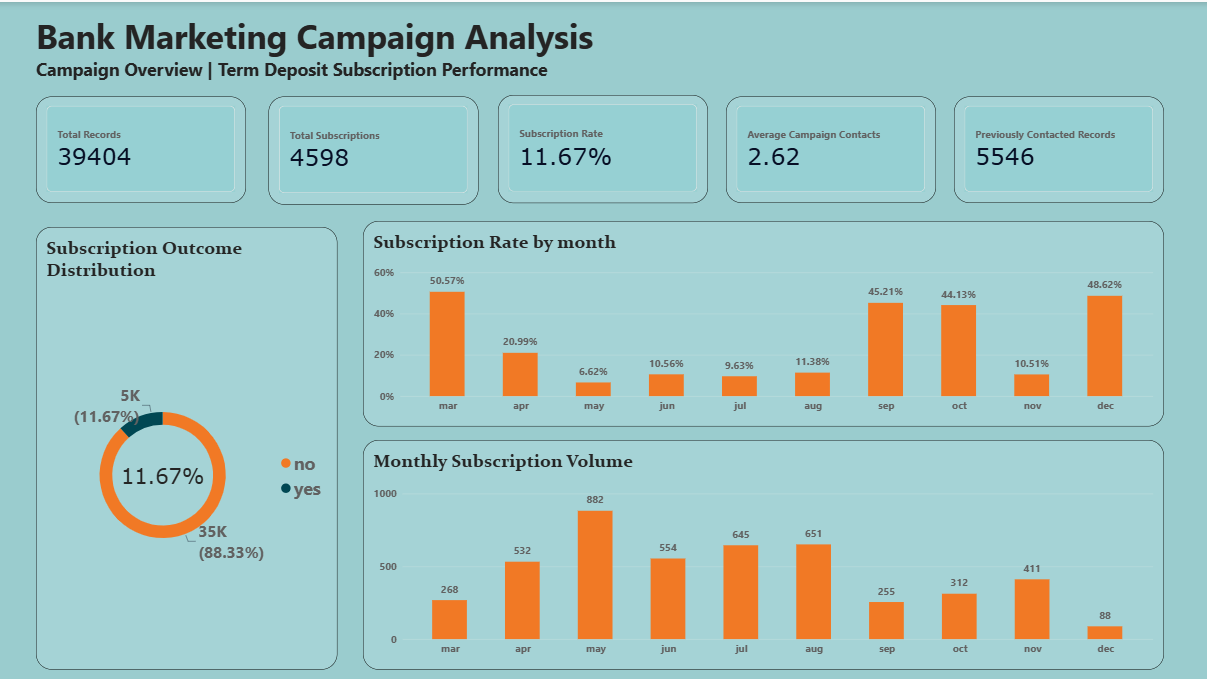

The dashboard page shown, as its layout file describes it:
{"tool":"powerbi","page":{"name":"Campaign Overview","canvas":[1920,1080],"ordinal":0},"visuals":[{"type":"cardVisual","fields":{"Data":["Measures (2).Total Records"]},"box":[57.3,150.3,334,169.4],"z":0},{"type":"cardVisual","fields":{"Data":["Measures (2).Total Subscriptions"]},"box":[427.1,150.3,334,171.8],"z":1000},{"type":"cardVisual","fields":{"Data":["Measures (2).Subscription Rate"]},"box":[792.1,147.9,334,171.8],"z":2000},{"type":"cardVisual","fields":{"Data":["Measures (2).Average Campaign Contacts"]},"box":[1154.8,150.3,334,169.4],"z":3000},{"type":"cardVisual","fields":{"Data":["Measures (2).Previously Contacted Records"]},"box":[1517.4,150.3,334,169.4],"z":4000},{"type":"clusteredColumnChart","fields":{"Category":["Bank_Marketing.month"],"Y":["Measures (2).Subscription Rate"]},"box":[577.4,348.3,1274.1,326.9],"z":5000},{"type":"donutChart","title":"Subscription Outcome Distribution","fields":{"Category":["Bank_Marketing.y"],"Y":["Measures (2).Total Records"]},"box":[57.3,357.9,479.6,703.8],"z":6000},{"type":"clusteredColumnChart","title":"Monthly Subscription Volume","fields":{"Category":["Bank_Marketing.month"],"Y":["Measures (2).Total Subscriptions"]},"box":[577.4,696.7,1274.1,365],"z":7000},{"type":"textbox","title":"Bank Marketing Campaign Analysis Campaign Overview | Term De","box":[57.3,16.7,994.9,133.6],"z":8000}]}

Visuals, with their boxes in screenshot pixels (x1, y1, x2, y2), scaled from the page's 1920x1080 canvas onto the 1207x679 screenshot:
cardVisual - Measures (2).Total Records: l=36, t=94, r=246, b=201
cardVisual - Measures (2).Total Subscriptions: l=268, t=94, r=478, b=203
cardVisual - Measures (2).Subscription Rate: l=498, t=93, r=708, b=201
cardVisual - Measures (2).Average Campaign Contacts: l=726, t=94, r=936, b=201
cardVisual - Measures (2).Previously Contacted Records: l=954, t=94, r=1164, b=201
clusteredColumnChart - Bank_Marketing.month x Measures (2).Subscription Rate: l=363, t=219, r=1164, b=425
"Subscription Outcome Distribution" donutChart: l=36, t=225, r=338, b=667
"Monthly Subscription Volume" clusteredColumnChart: l=363, t=438, r=1164, b=667
"Bank Marketing Campaign Analysis Campaign Overview | Term De" textbox: l=36, t=10, r=661, b=94
